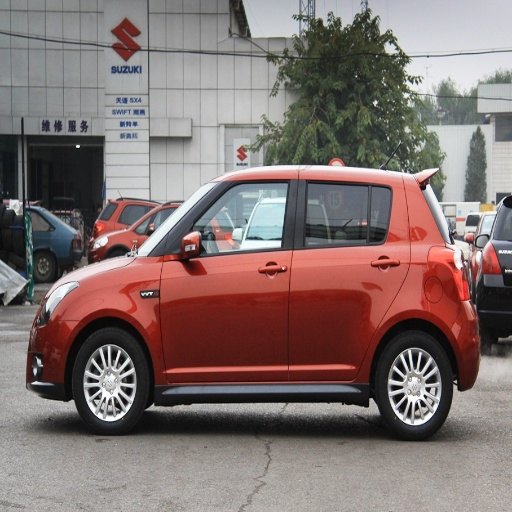back_left_door: (289, 176, 409, 377)
front_left_door: (161, 175, 298, 379)
